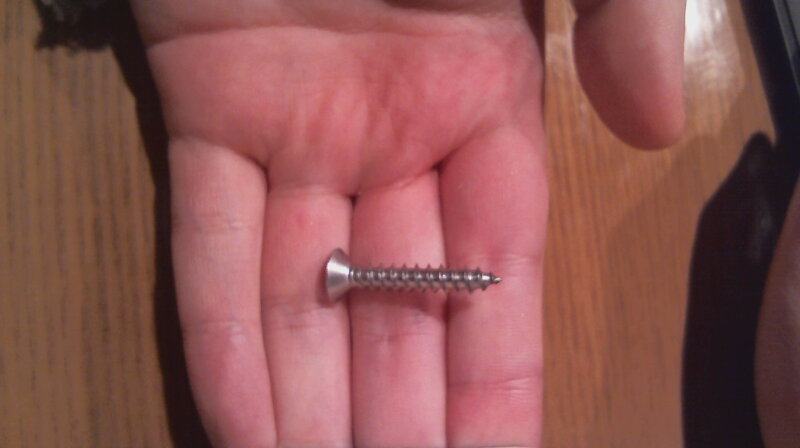S001: (313, 242, 505, 309)
